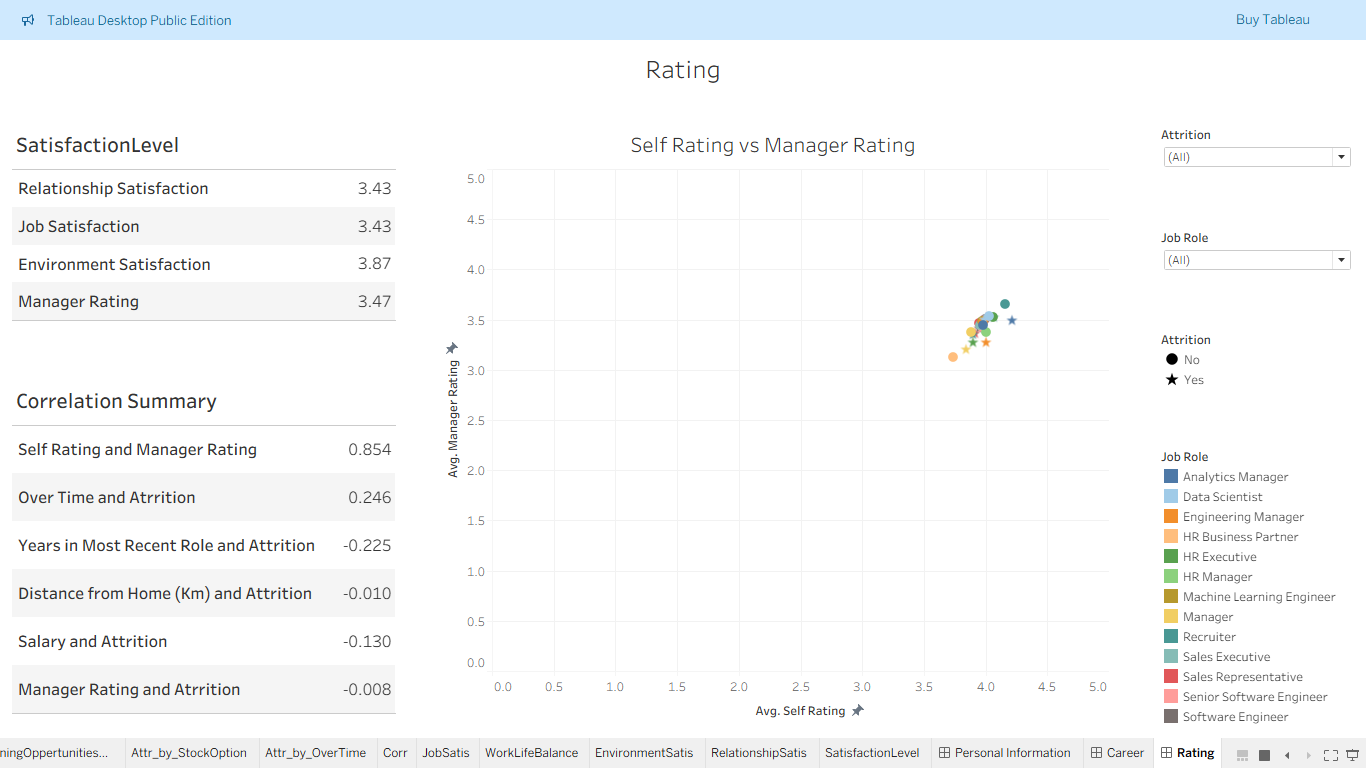

Layout of this report page (visuals, bound fields, positions):
{"tool":"tableau","page":{"name":"Rating","canvas":[1000,1000],"units":"permille","ordinal":2},"visuals":[{"type":"title","box":[6,13,988.1,68.3]},{"type":"blank","box":[6,81.3,988.1,52]},{"type":"worksheet","title":"SatisfactionLevel","mark":"Automatic","box":[6,133.3,287.2,284.4]},{"type":"blank","box":[293.2,133.3,23.9,853.7]},{"type":"worksheet","title":"Self_vs_Manager_Rating","mark":"Automatic","rows":["ManagerRating"],"cols":["SelfRating"],"box":[317.1,133.3,497.9,853.7]},{"type":"blank","box":[815,133.3,31.8,853.7]},{"type":"filter","title":"Self_vs_Manager_Rating","param":"[federated.1wecvzg0ogtb781fnt5a01xq11kb].[none:Attrition:nk]","box":[846.8,133.3,147.2,84.5]},{"type":"blank","box":[846.8,217.9,147.2,52]},{"type":"filter","title":"Self_vs_Manager_Rating","param":"[federated.1wecvzg0ogtb781fnt5a01xq11kb].[none:JobRole:nk]","box":[846.8,269.9,147.2,84.5]},{"type":"blank","box":[846.8,354.5,147.2,52]},{"type":"legend","title":"Self_vs_Manager_Rating","param":"[federated.1wecvzg0ogtb781fnt5a01xq11kb].[none:Attrition:nk]","box":[846.8,406.5,147.2,107.3]},{"type":"blank","box":[6,417.8,287.2,75.4]},{"type":"worksheet","title":"Corr","mark":"Automatic","box":[6,493.2,287.2,493.8]},{"type":"blank","box":[846.8,513.8,147.2,52]},{"type":"legend","title":"Self_vs_Manager_Rating","param":"[federated.1wecvzg0ogtb781fnt5a01xq11kb].[none:JobRole:nk]","box":[846.8,565.8,147.2,421.2]}]}

Visuals, with their boxes on the dashboard's canvas, which has no fixed pixel size, in thousandths of its width and height (x1, y1, x2, y2). These are canvas units, not pixel positions in the 1366x768 screenshot, which may show the page scaled, cropped or inside an application window:
title: region(6, 13, 994, 81)
blank: region(6, 81, 994, 133)
"SatisfactionLevel" worksheet: region(6, 133, 293, 418)
blank: region(293, 133, 317, 987)
"Self_vs_Manager_Rating" worksheet: region(317, 133, 815, 987)
blank: region(815, 133, 847, 987)
"Self_vs_Manager_Rating" filter: region(847, 133, 994, 218)
blank: region(847, 218, 994, 270)
"Self_vs_Manager_Rating" filter: region(847, 270, 994, 354)
blank: region(847, 354, 994, 406)
"Self_vs_Manager_Rating" legend: region(847, 406, 994, 514)
blank: region(6, 418, 293, 493)
"Corr" worksheet: region(6, 493, 293, 987)
blank: region(847, 514, 994, 566)
"Self_vs_Manager_Rating" legend: region(847, 566, 994, 987)
